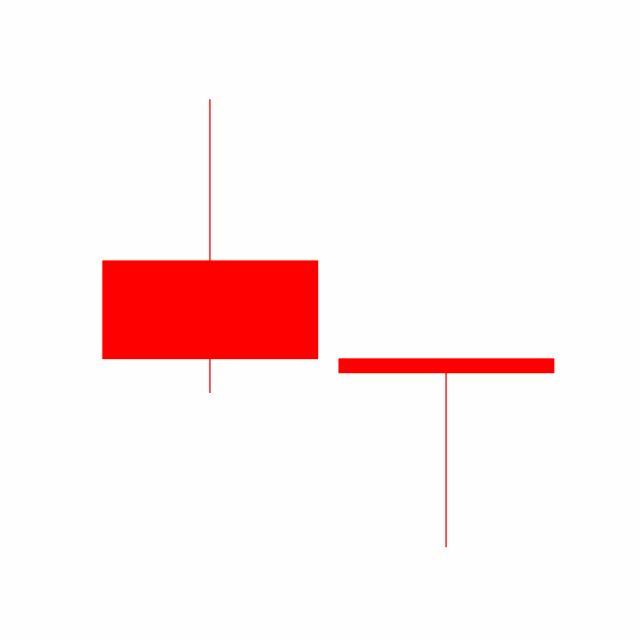Dragonfly Doji: (327, 355, 565, 549)
